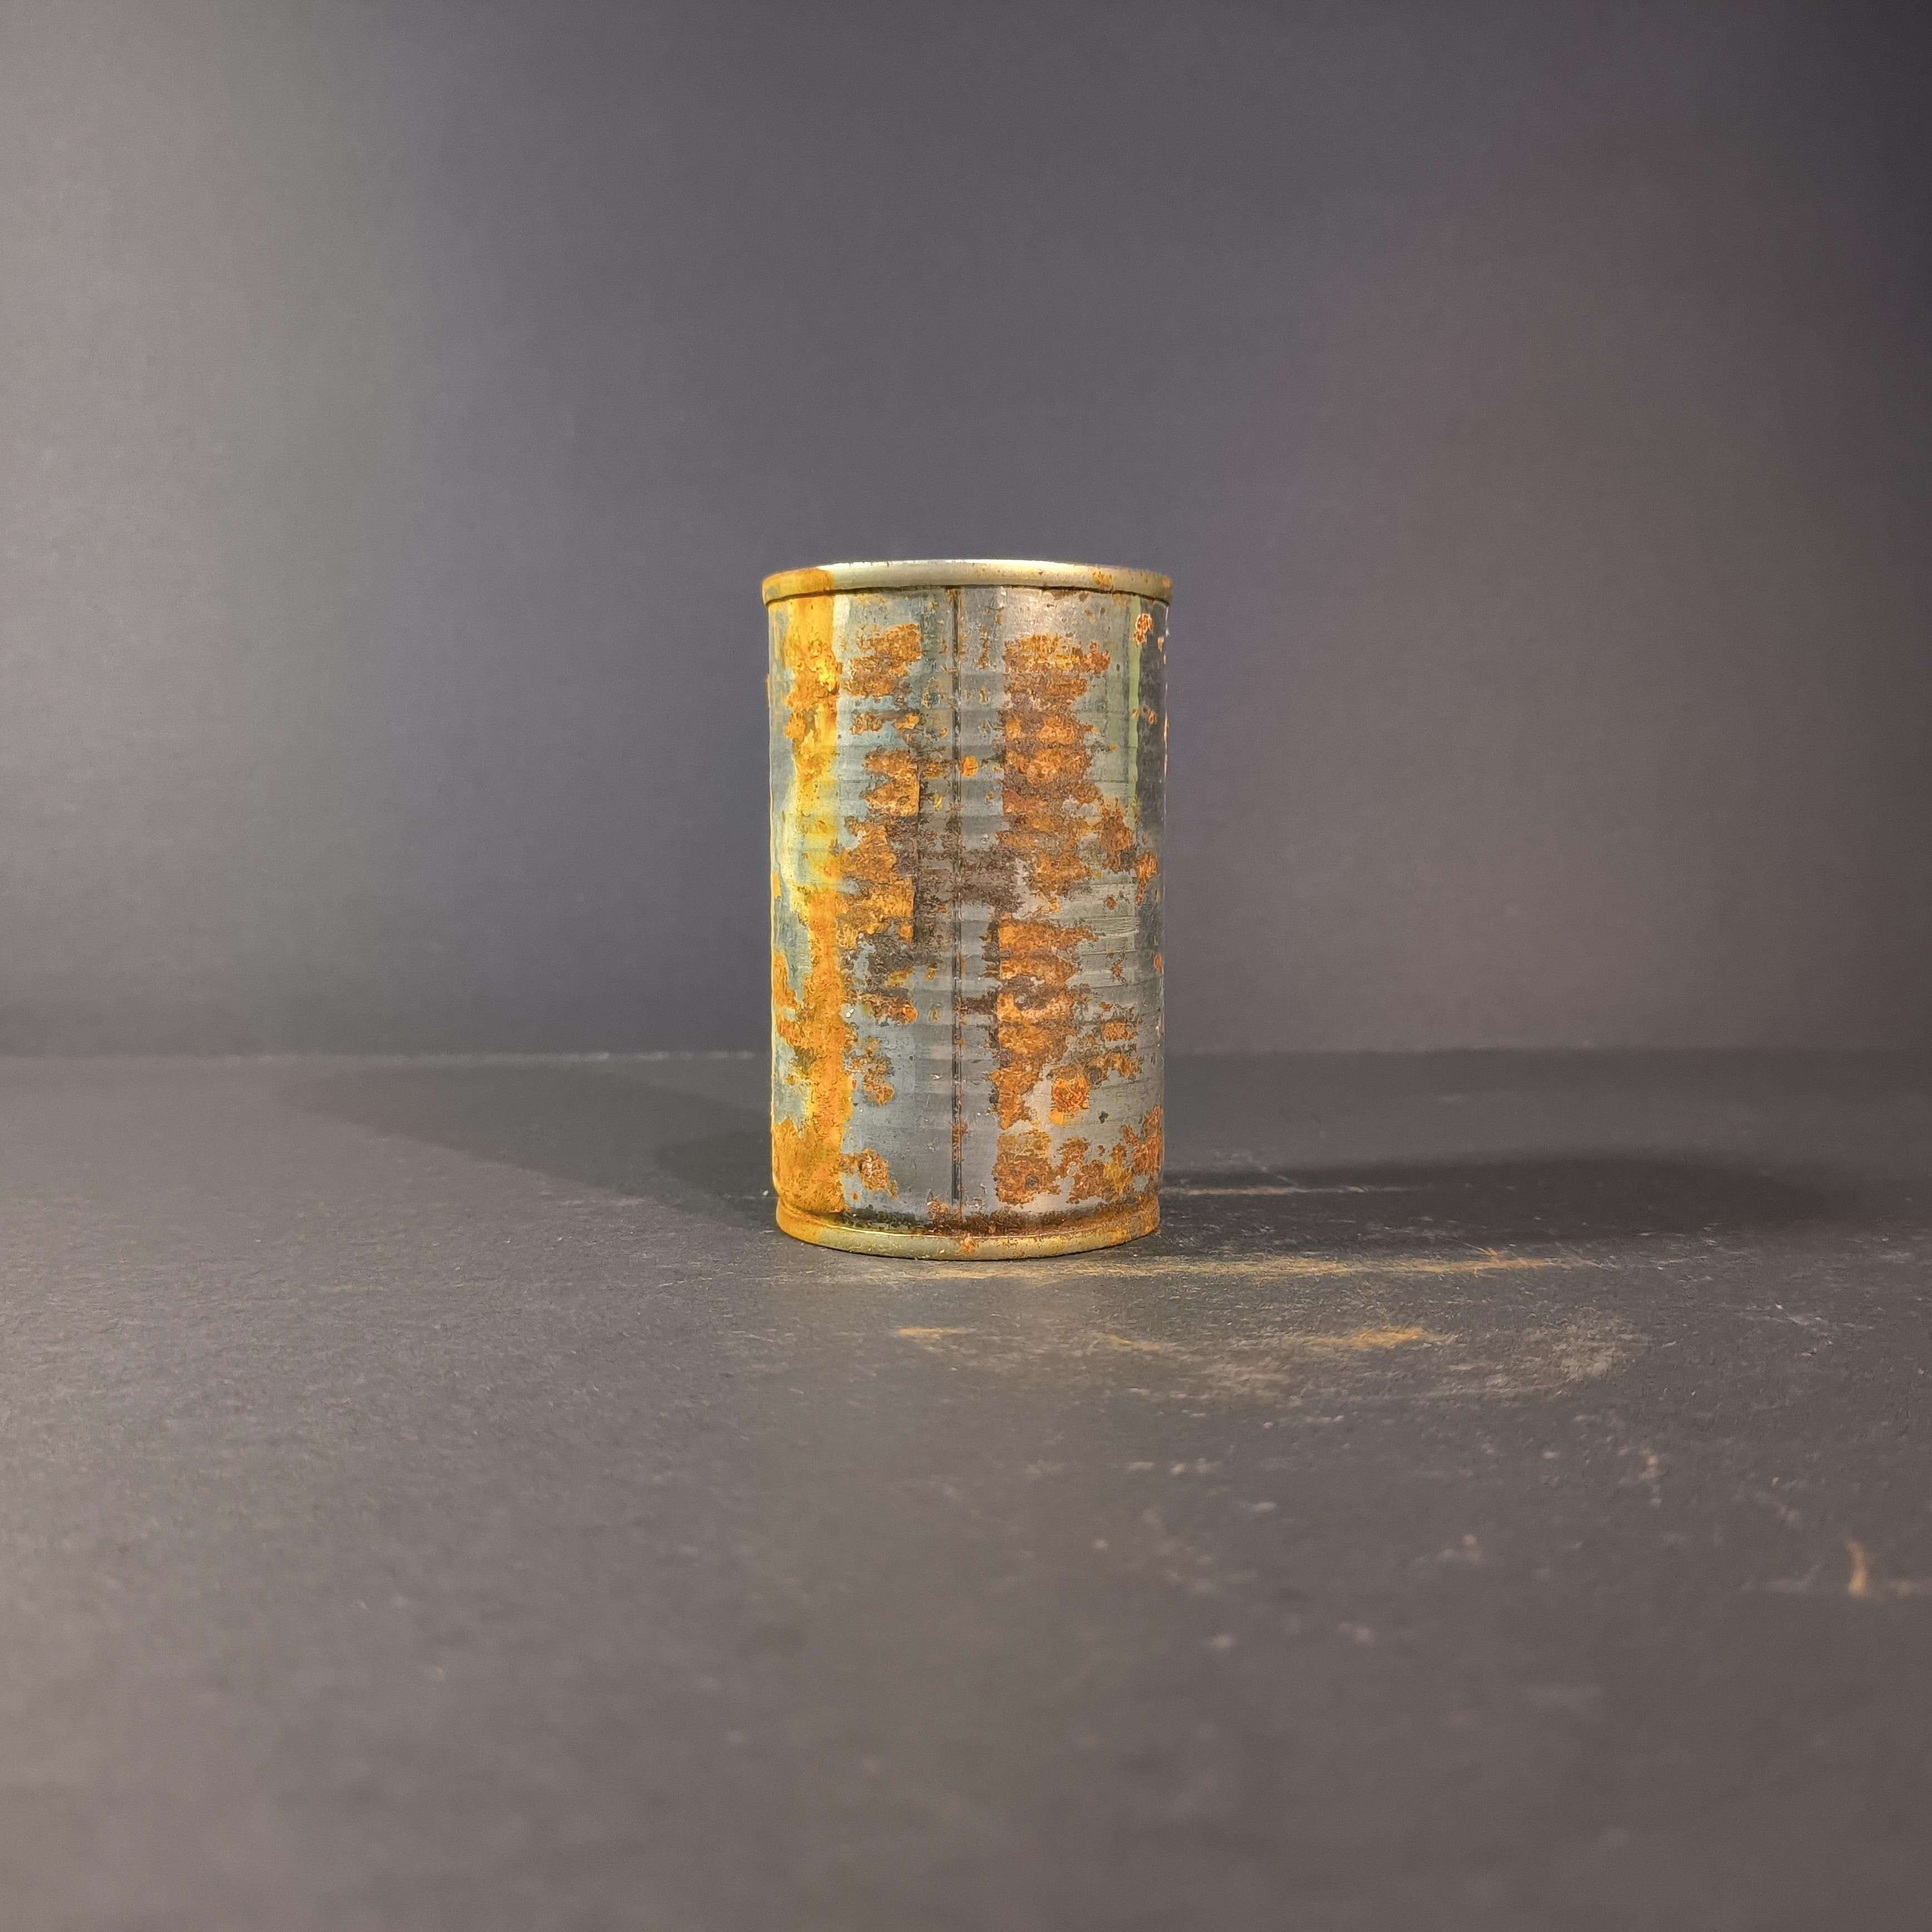Rusted: (754, 538, 1196, 1279)
